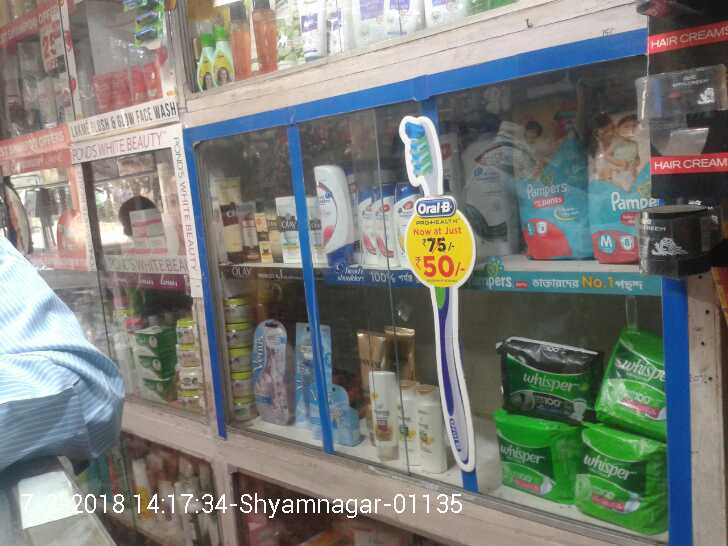venus: (251, 320, 288, 427), (311, 386, 355, 436), (296, 320, 311, 436)
